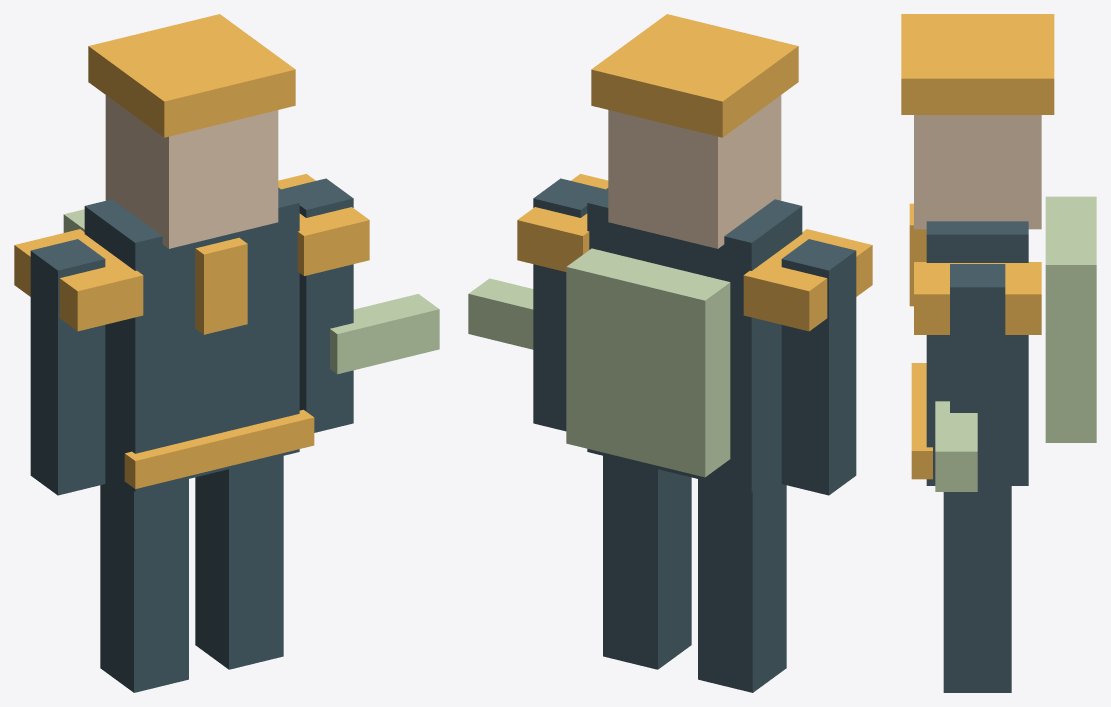
File: 15_kiva_rootborne_mechanist_under_recovery.glb
3 renders of one model, left to right at view 1: azimuth 30°, elevation 25°; view 2: azimuth 150°, elevation 25°; view 3: azimuth 270°, elevation 25°, orthographic.
Visible parts, largest first — view 1: Kiva Rootborne, Mechanist under Recovery; view 2: Kiva Rootborne, Mechanist under Recovery; view 3: Kiva Rootborne, Mechanist under Recovery.
Boxes of the visible parts, x1=… form: Kiva Rootborne, Mechanist under Recovery: x1=14, y1=14, x2=439, y2=692; Kiva Rootborne, Mechanist under Recovery: x1=468, y1=14, x2=872, y2=692; Kiva Rootborne, Mechanist under Recovery: x1=901, y1=14, x2=1096, y2=692.
Size of the model in its own units: 0.9853 by 1.52 by 0.4422.
